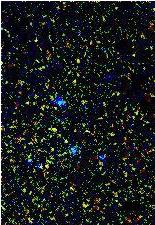star: (38, 114, 68, 144)
